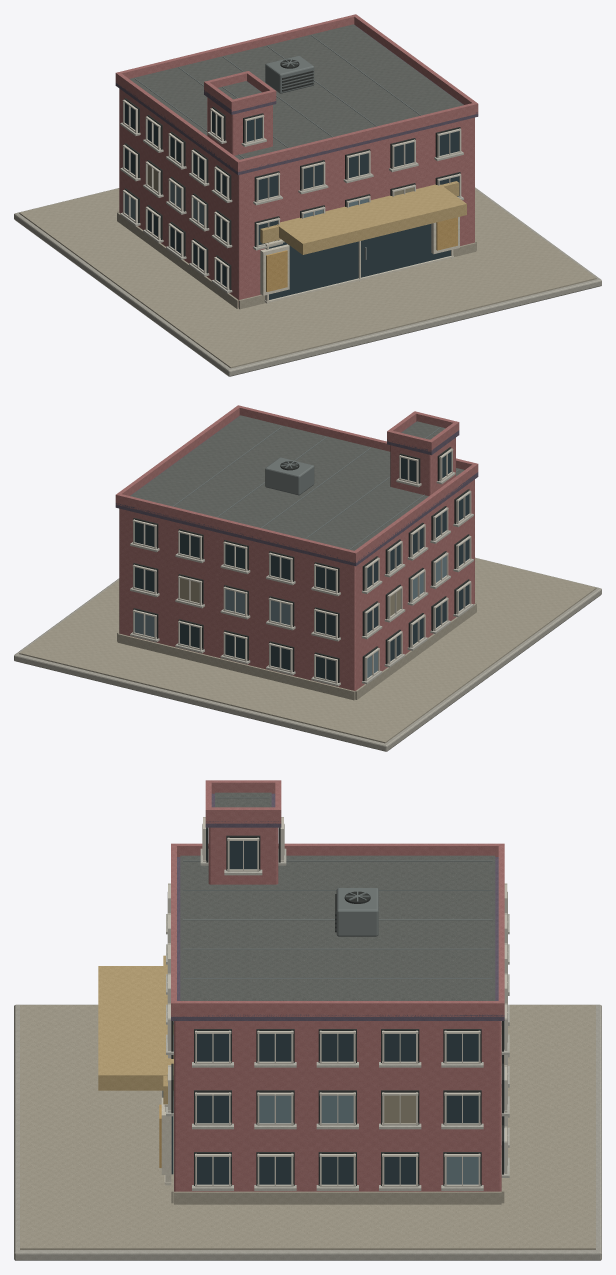
File: EXP_SHOP_CINEMA.glb
3 renders of one model, top to bottom at view 1: azimuth 30°, elevation 25°; view 2: azimuth 150°, elevation 25°; view 3: azimuth 270°, elevation 25°, orthographic. The views are drawn at different scales.
Parts seen in each view (by area): view 1: EXP_SHOP_CINEMA_Visual; view 2: EXP_SHOP_CINEMA_Visual; view 3: EXP_SHOP_CINEMA_Visual.
Boxes of the visible parts, x1,y1,x2,y2 form: EXP_SHOP_CINEMA_Visual: (14, 14, 601, 376); EXP_SHOP_CINEMA_Visual: (14, 405, 601, 751); EXP_SHOP_CINEMA_Visual: (14, 780, 601, 1260).
Size of what is drawn, in the model's own units: 5.92 by 3.13 by 5.92.
Materials: 15 (9 with a texture image).
